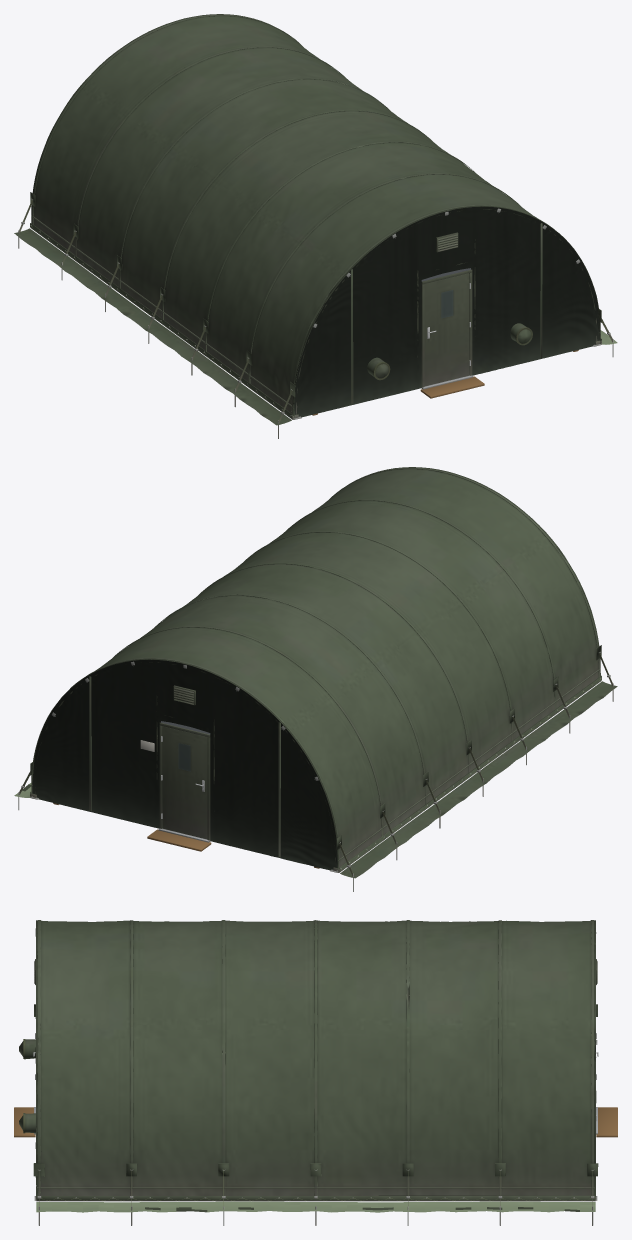
File: mts-deployed.glb
The picture shows the model from 3 angles, top to bottom: view 1: azimuth 30°, elevation 25°; view 2: azimuth 150°, elevation 25°; view 3: azimuth 270°, elevation 25°; orthographic projection. The views are drawn at different scales.
Parts seen in each view (by area): view 1: MTS_shelter, MTS_floor, MTS_frame; view 2: MTS_shelter, MTS_floor; view 3: MTS_shelter, MTS_floor.
Part boxes in pixels (x1,y1,x2,y2): MTS_shelter: (14, 14, 617, 438); MTS_floor: (312, 268, 578, 415); MTS_frame: (293, 208, 601, 419); MTS_shelter: (14, 467, 617, 891); MTS_floor: (53, 721, 319, 868); MTS_shelter: (19, 920, 598, 1225); MTS_floor: (14, 1107, 617, 1137).
Bounding box in the file's own units: 6.94 × 3.66 × 9.98.
Materials: 18 (8 with a texture image).
